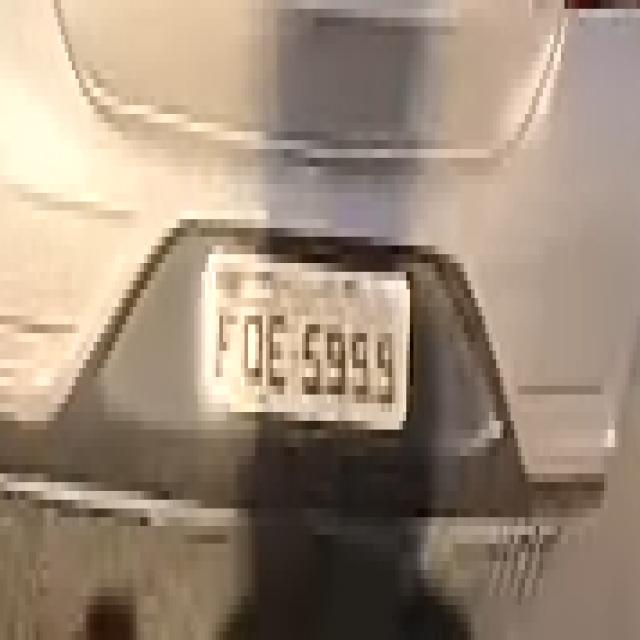Placa_mercosul_carro: (196, 235, 413, 434)
